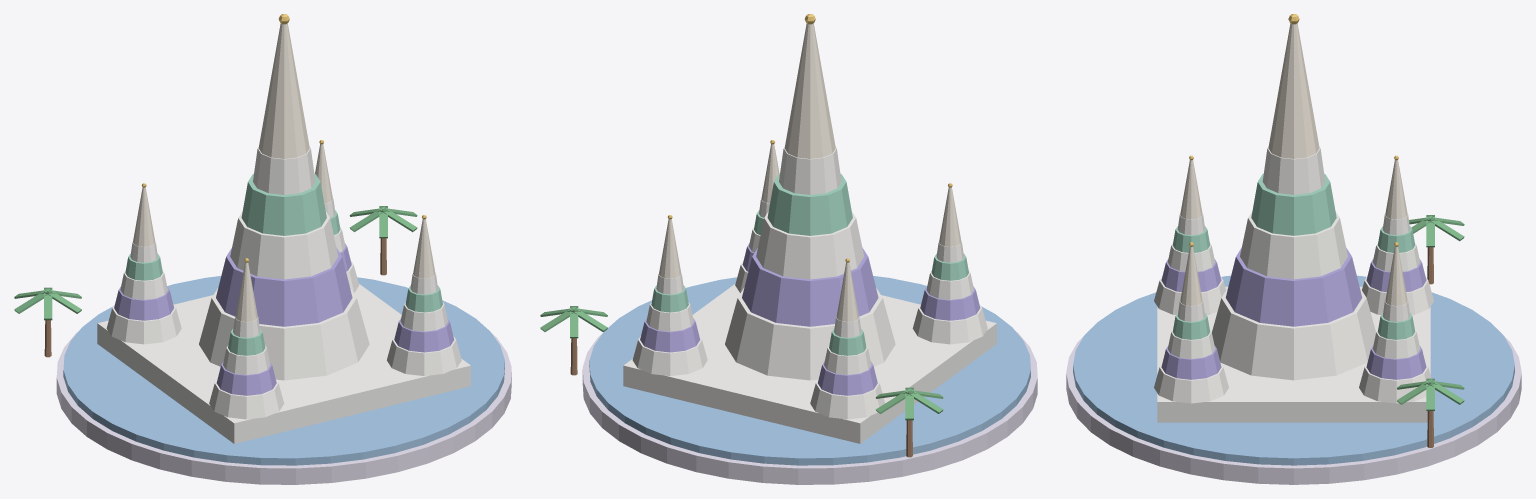
Rendered from watarun.glb.
3 views of the same model, side by side, from view 1: azimuth 30°, elevation 25°; view 2: azimuth 150°, elevation 25°; view 3: azimuth 270°, elevation 25° (orthographic).
Parts seen in each view (by area): view 1: watarun; view 2: watarun; view 3: watarun.
Boxes of the visible parts, box(x1,y1,x2,y2) form: watarun: box(14, 14, 511, 484); watarun: box(540, 14, 1037, 484); watarun: box(1066, 14, 1521, 484).
Bounding box in the file's own units: 2.02 × 1.82 × 2.
Materials: 1 (1 with a texture image).
